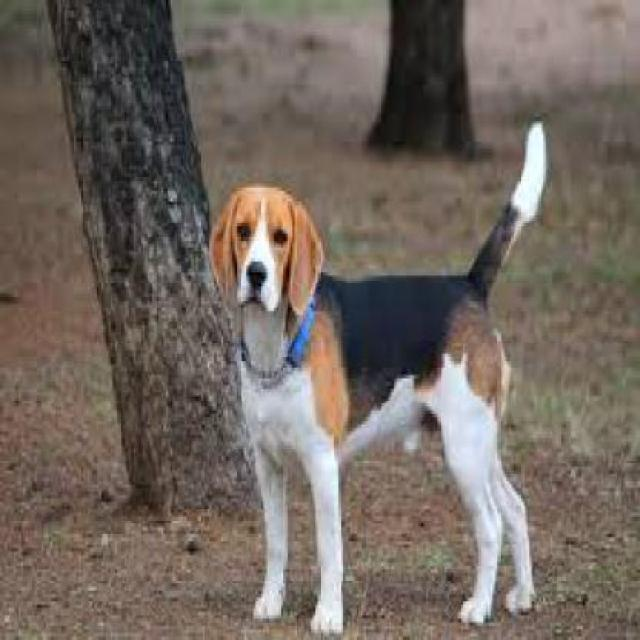Dog: (208, 117, 555, 637)
